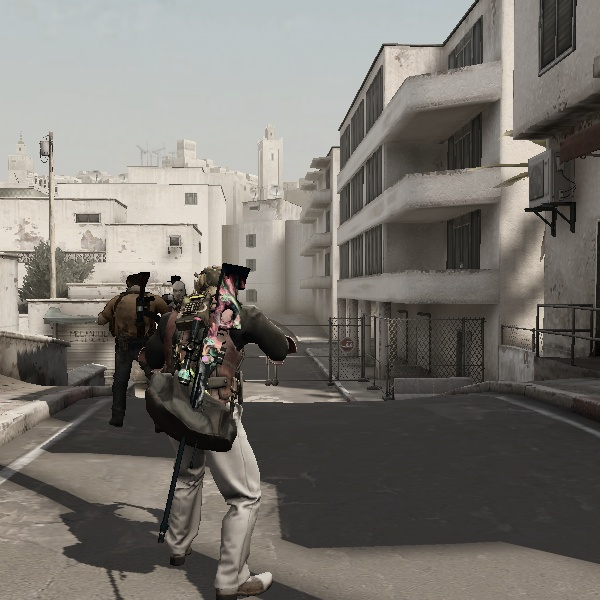t_body: (131, 257, 300, 588), (96, 269, 167, 427)
t_head: (187, 258, 246, 321), (121, 268, 156, 303), (163, 279, 193, 309)
